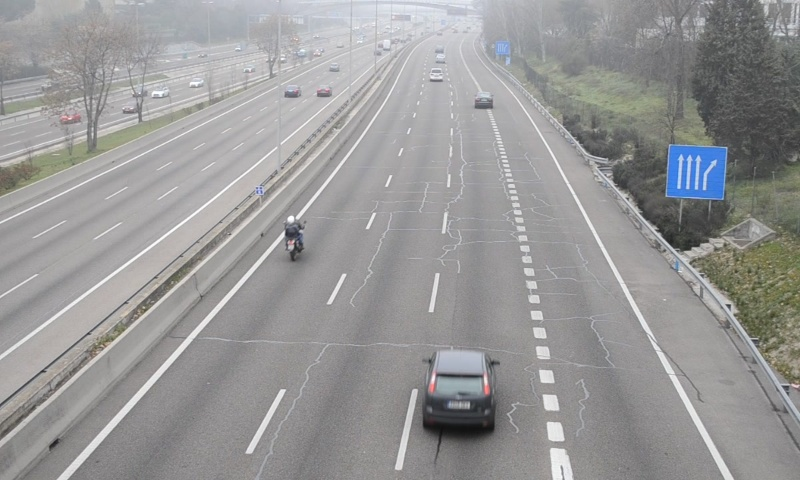car: (423, 352, 496, 432), (474, 92, 492, 108), (429, 68, 444, 82)
motorcycle: (280, 214, 304, 264)
